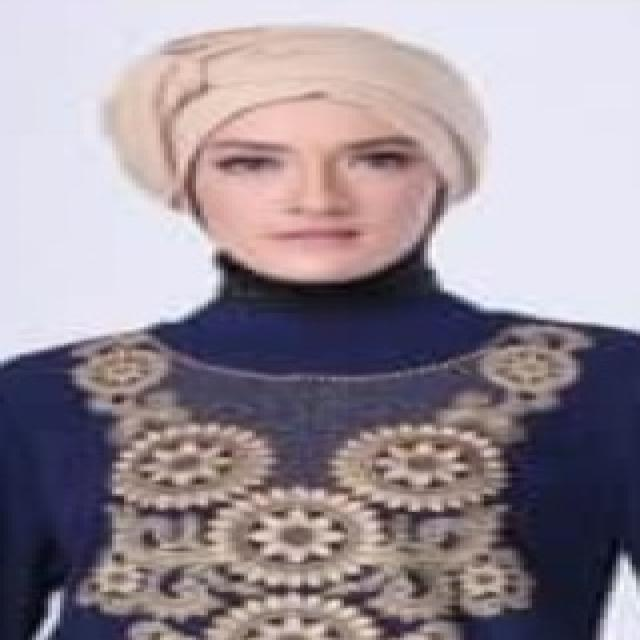head: (129, 18, 509, 299)
